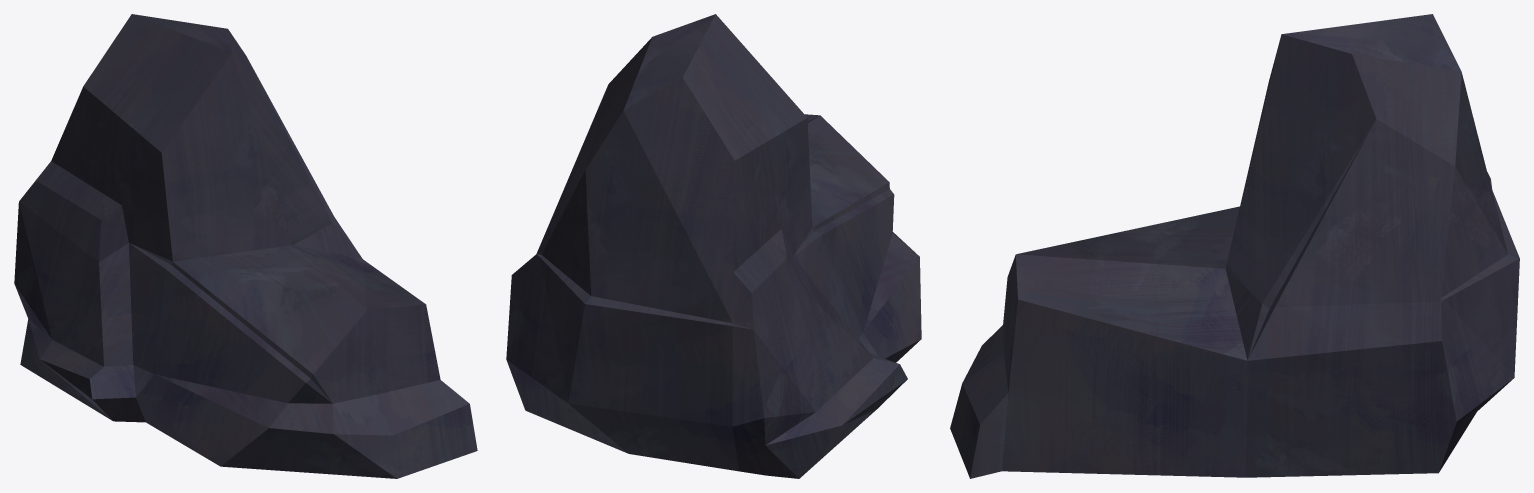
File: Boulder01.fbx
3 views of the same model, side by side, from view 1: azimuth 30°, elevation 25°; view 2: azimuth 150°, elevation 25°; view 3: azimuth 270°, elevation 25° (orthographic). The views are drawn at different scales.
Parts seen in each view (by area): view 1: Boulder_01; view 2: Boulder_01; view 3: Boulder_01.
Part boxes in pixels (<box>): Boulder_01: <box>14,14,477,478</box>; Boulder_01: <box>506,14,921,478</box>; Boulder_01: <box>950,14,1519,478</box>.
Bounding box in the file's own units: 1.44 × 1.66 × 2.24.
Materials: 1 (1 with a texture image).
